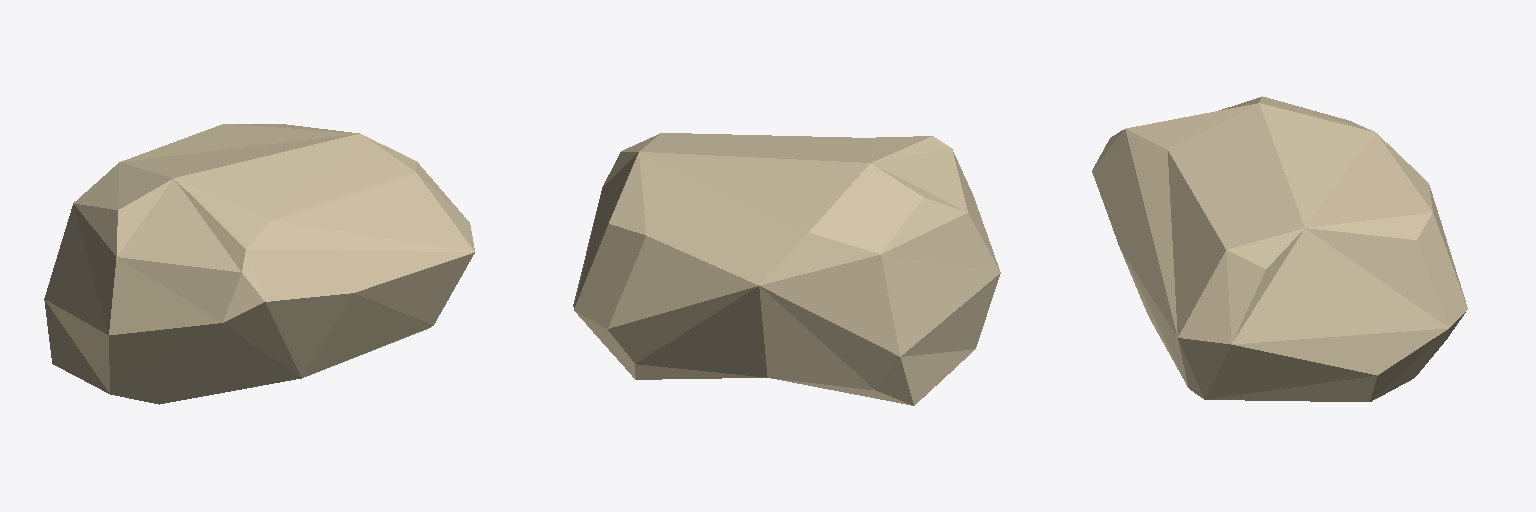
3 renders of one model, left to right at view 1: azimuth 30°, elevation 25°; view 2: azimuth 150°, elevation 25°; view 3: azimuth 270°, elevation 25°, orthographic.
Parts seen in each view (by area): view 1: 右足; view 2: 右足; view 3: 右足.
Boxes of the visible parts, x1=… form: 右足: x1=44, y1=124, x2=474, y2=404; 右足: x1=573, y1=133, x2=1000, y2=405; 右足: x1=1092, y1=96, x2=1467, y2=401.
Size of the model in its own units: 0.7058 by 0.3831 by 0.6054.
Materials: 1 (1 with a texture image).